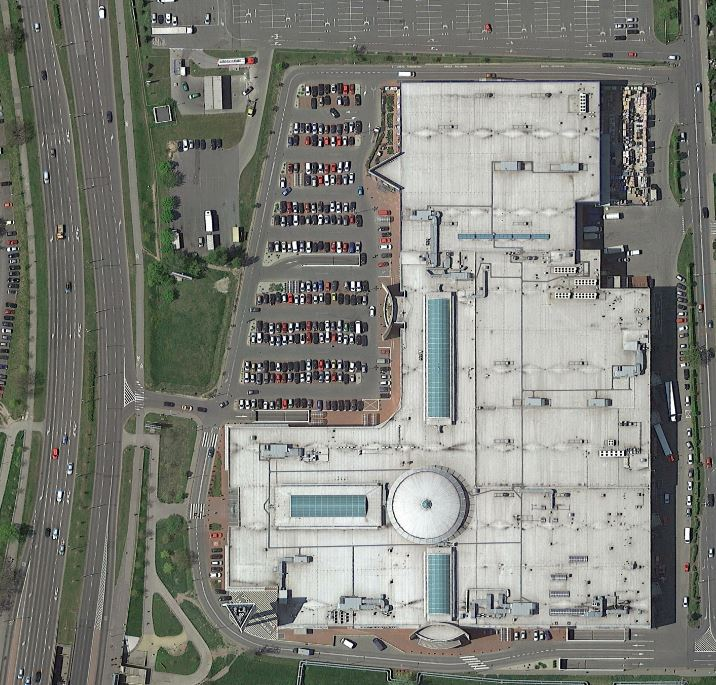shopping_center: (218, 69, 659, 660)
